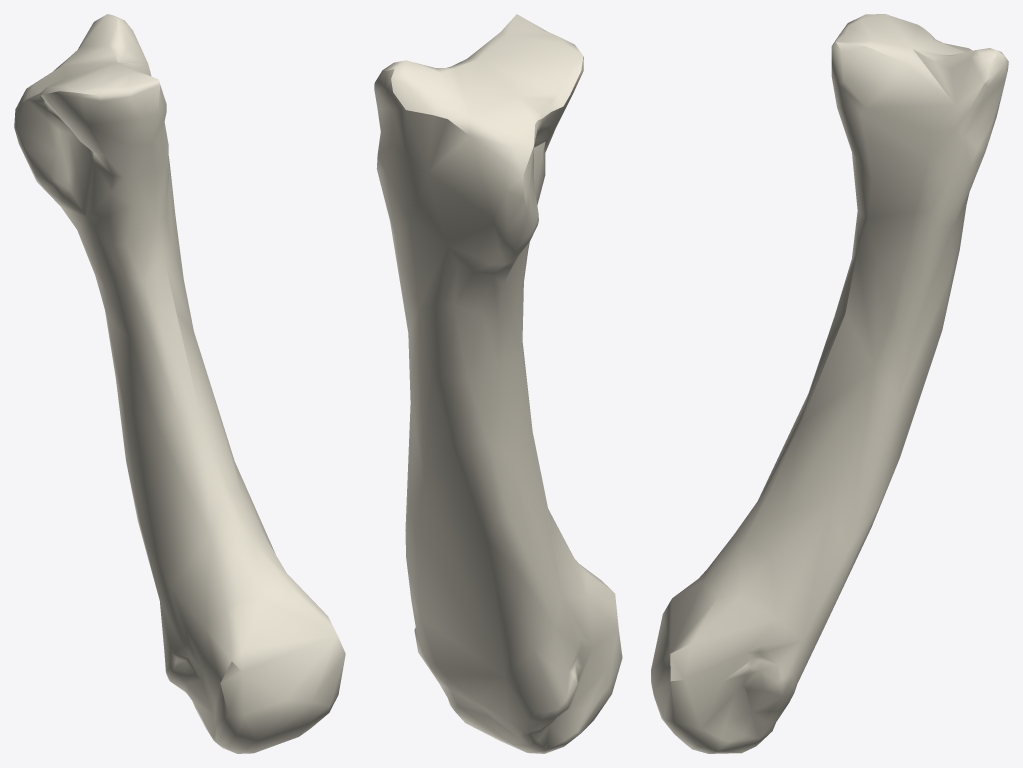
The model's file is fma24469_fj3246.glb.
3 renders of one model, left to right at view 1: azimuth 30°, elevation 25°; view 2: azimuth 150°, elevation 25°; view 3: azimuth 270°, elevation 25°, orthographic. The views are drawn at different scales.
Visible parts, largest first — view 1: FMA24469_FJ3246; view 2: FMA24469_FJ3246; view 3: FMA24469_FJ3246.
Boxes of the visible parts, x1,y1,x2,y2 form: FMA24469_FJ3246: (14,14,345,753); FMA24469_FJ3246: (374,14,622,753); FMA24469_FJ3246: (651,14,1008,753).
Size of the model in its own units: 0.0199 by 0.0644 by 0.0304.
